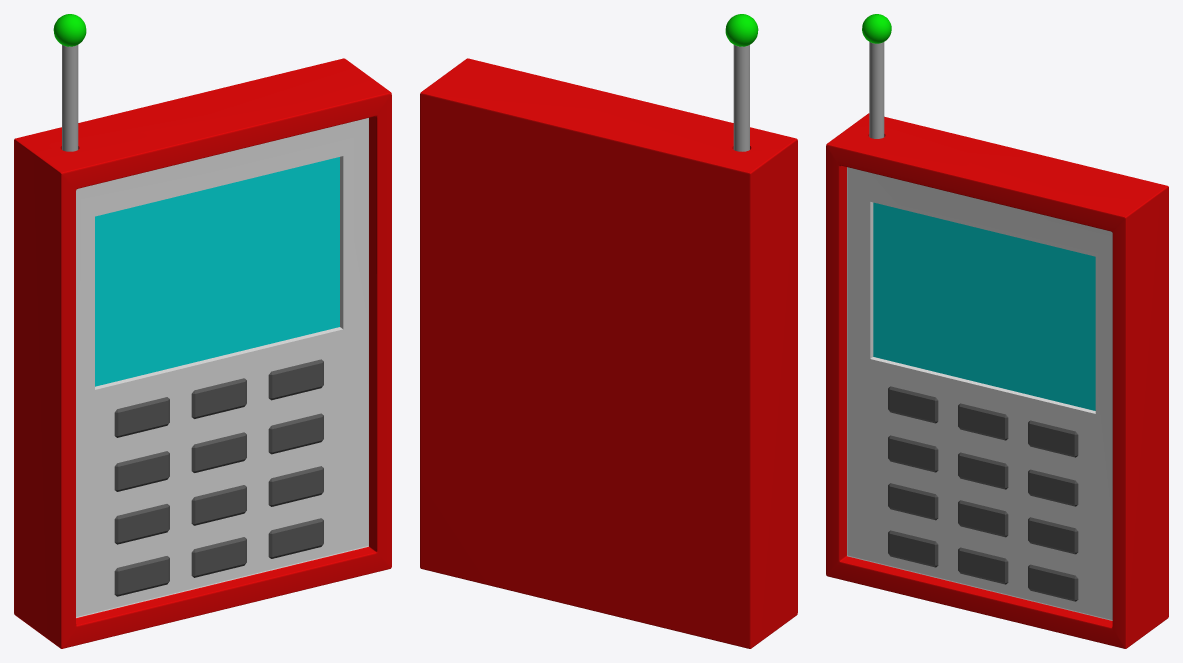
File: EarthLab_Bedrooms_KeyPad_Week1.fbx
3 views of the same model, side by side, from view 1: azimuth 30°, elevation 25°; view 2: azimuth 150°, elevation 25°; view 3: azimuth 330°, elevation 25° (orthographic). The views are drawn at different scales.
Visible parts, largest first — view 1: polySurface9, polySurface2, polySurface12, polySurface15, polySurface16; view 2: polySurface9, polySurface15, polySurface16; view 3: polySurface9, polySurface2, polySurface12, polySurface15, polySurface16.
Part boxes in pixels (<box>): polySurface9: <box>14,58,391,648</box>; polySurface2: <box>95,157,339,386</box>; polySurface12: <box>114,359,323,596</box>; polySurface15: <box>62,45,78,151</box>; polySurface16: <box>53,14,86,46</box>; polySurface9: <box>420,58,797,648</box>; polySurface15: <box>733,45,749,151</box>; polySurface16: <box>725,14,758,46</box>; polySurface9: <box>826,113,1168,648</box>; polySurface2: <box>873,202,1095,410</box>; polySurface12: <box>888,386,1078,601</box>; polySurface15: <box>869,42,884,138</box>; polySurface16: <box>862,14,891,43</box>.
Bounding box in the file's own units: 0.4 × 0.7026 × 0.1.
